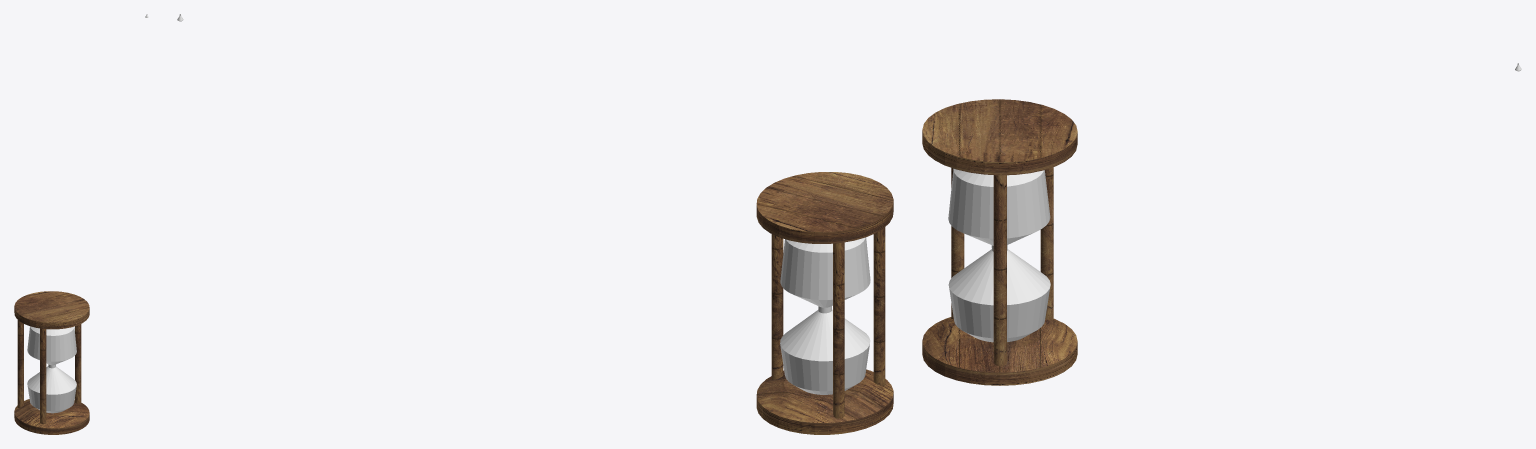
The model's file is HourGlass.fbx.
3 renders of one model, left to right at view 1: azimuth 30°, elevation 25°; view 2: azimuth 150°, elevation 25°; view 3: azimuth 270°, elevation 25°, orthographic. The views are drawn at different scales.
Visible parts, largest first — view 1: Cylinder, Cylinder.001; view 2: Cylinder, Cylinder.001; view 3: Cylinder, Cylinder.001.
Boxes of the visible parts, x1,y1,x2,y2 form: Cylinder: (14, 291, 89, 434); Cylinder.001: (27, 326, 76, 413); Cylinder: (756, 172, 893, 434); Cylinder.001: (780, 237, 870, 394); Cylinder: (922, 99, 1077, 385); Cylinder.001: (948, 168, 1050, 342).
Size of the model in its own units: 1035 by 977 by 1041.
